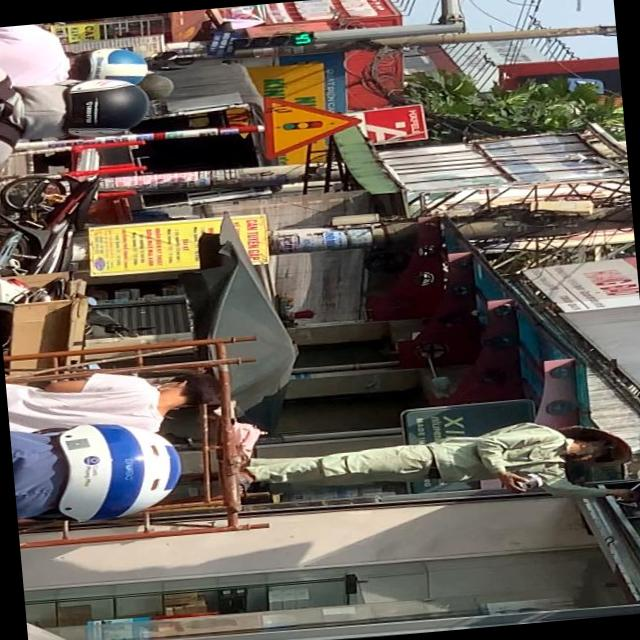W-209: (258, 85, 362, 159)
